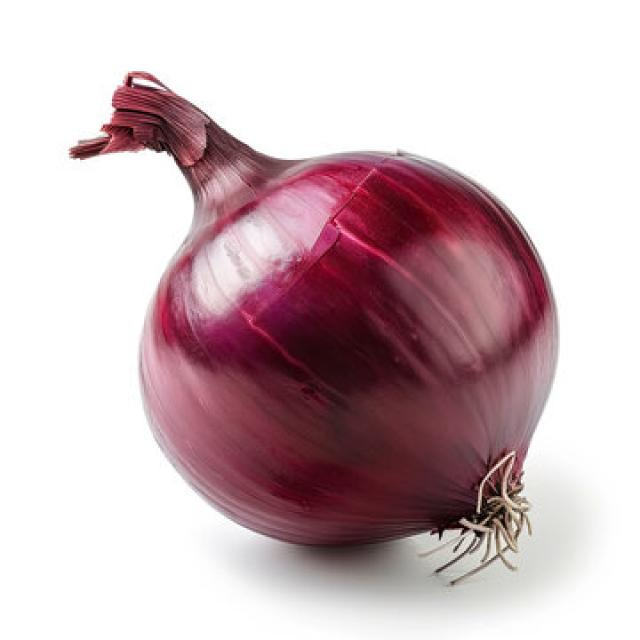Onion: (66, 68, 560, 586)
